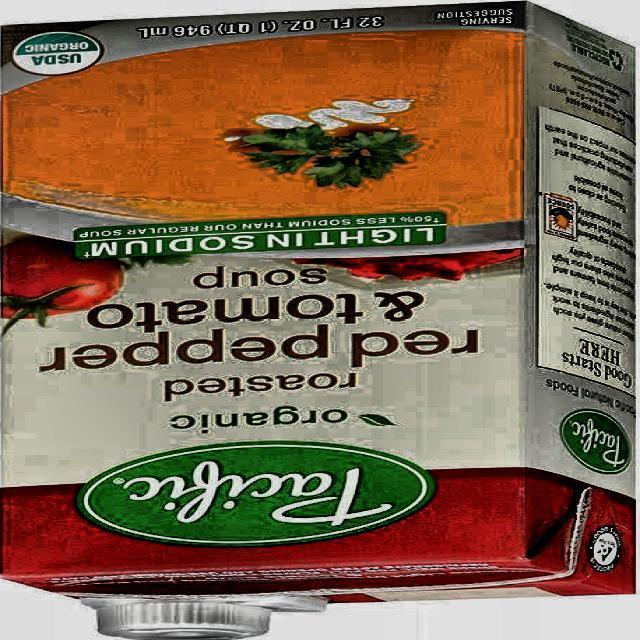cardboard: (0, 2, 637, 610)
